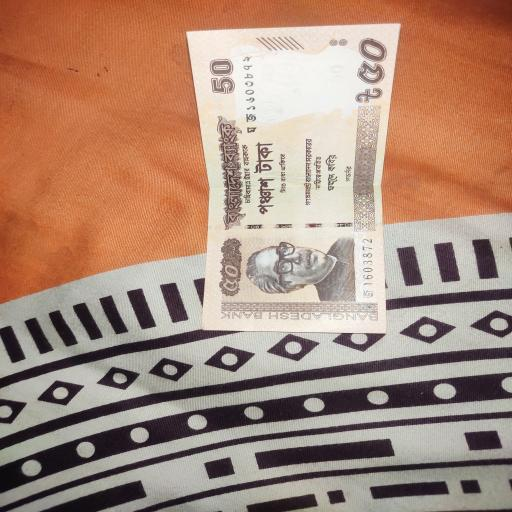50taka: (168, 24, 404, 330)
